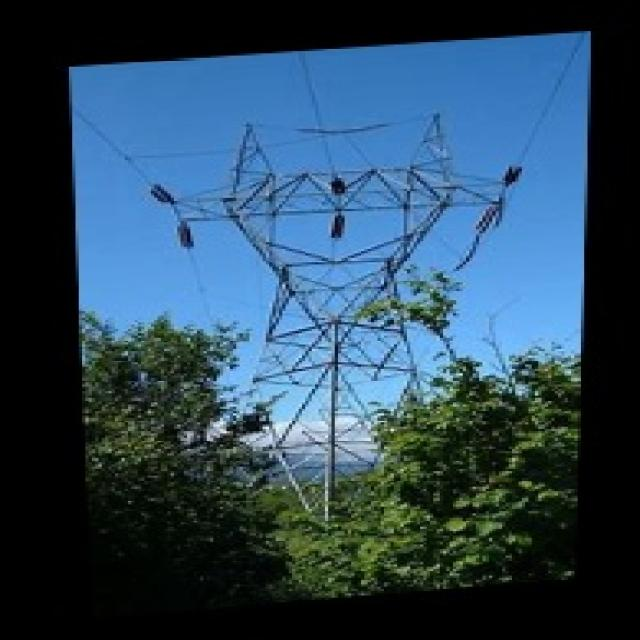utility poles: (336, 256, 556, 437), (170, 322, 308, 497)
